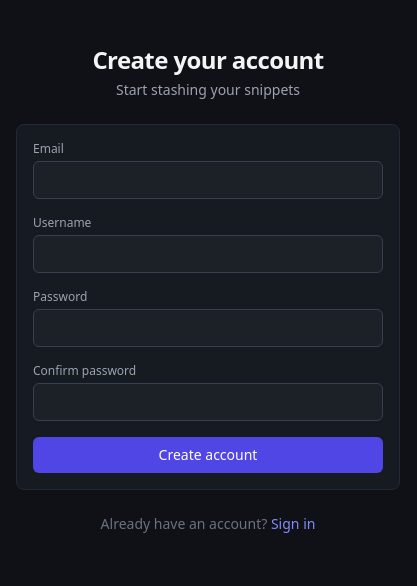
it: RegisterPage › shows a form-level error message when passwords do not match on submit
This screenshot has width=417, height=586.
Type "alice@example.com" into the field labelled "Email" at (208, 180), box x1=33 y1=161 x2=383 y2=199
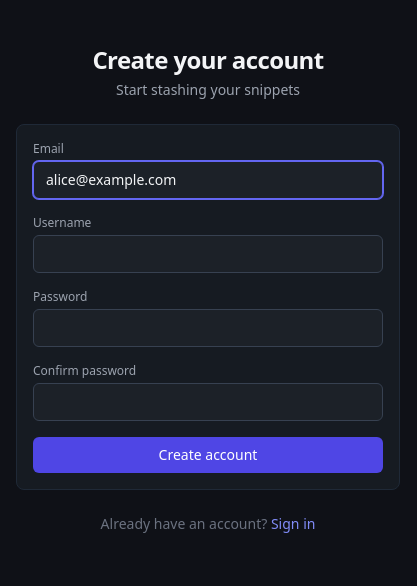
Type "alice" into the field labelled "Username" at (208, 254), box x1=33 y1=235 x2=383 y2=273
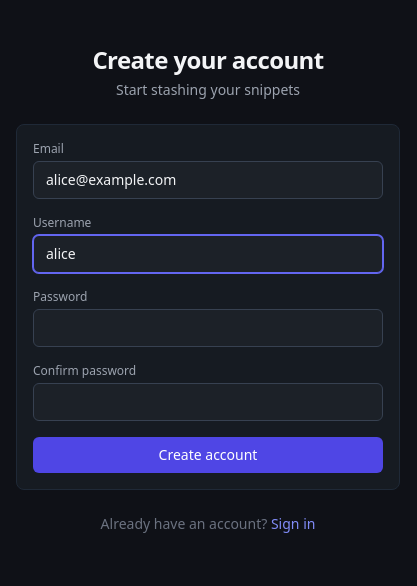
Type "password1" into the password field labelled "Password" at (208, 328), box x1=33 y1=309 x2=383 y2=347
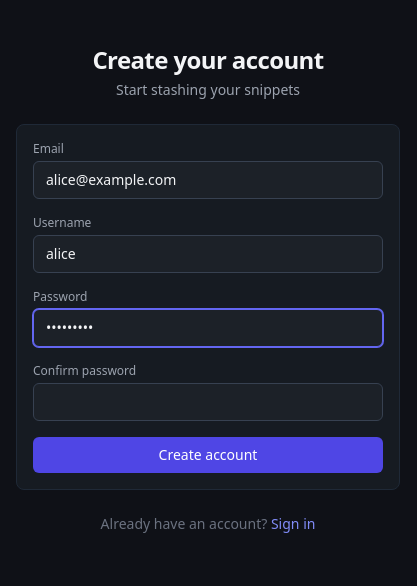
Type "password2" into the password field labelled "Confirm password" at (208, 402), box x1=33 y1=383 x2=383 y2=421
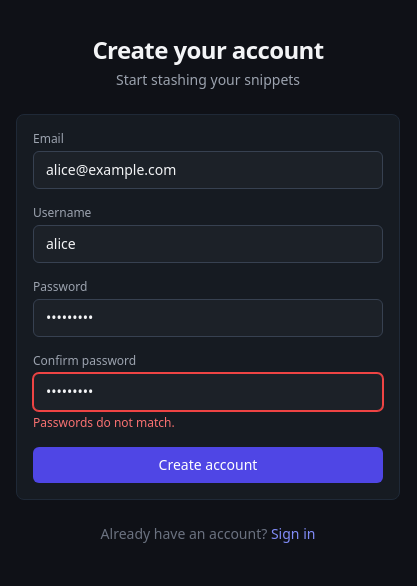
Click the button "Create account" at (208, 465), box x1=33 y1=447 x2=383 y2=483
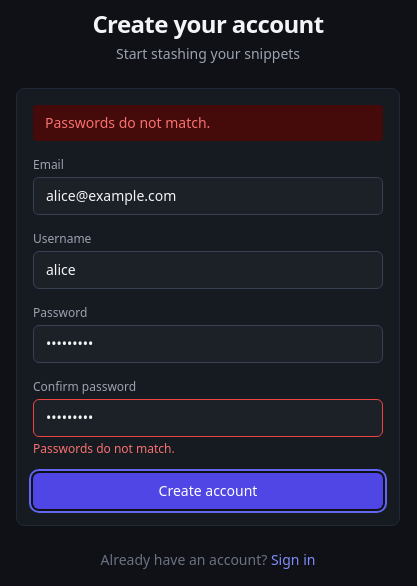
Result: the 1st text "Passwords do not match." is shown at x1=33 y1=105 x2=383 y2=141
